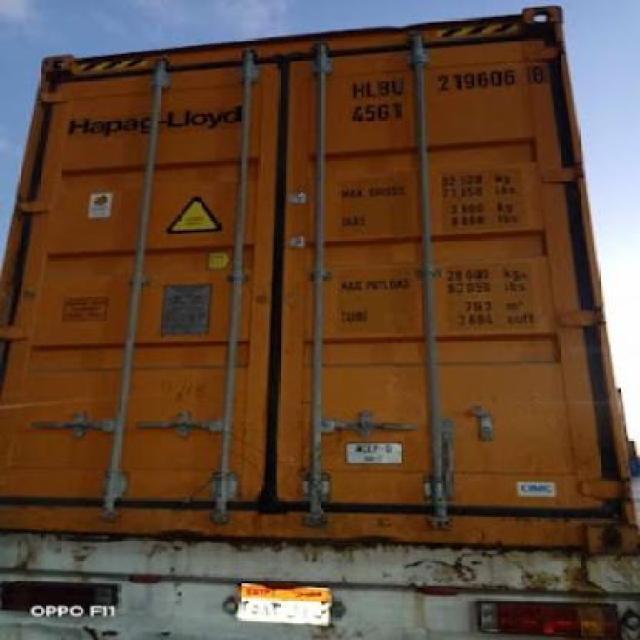ISO: (344, 106, 402, 125)
container_number: (348, 64, 562, 102)
